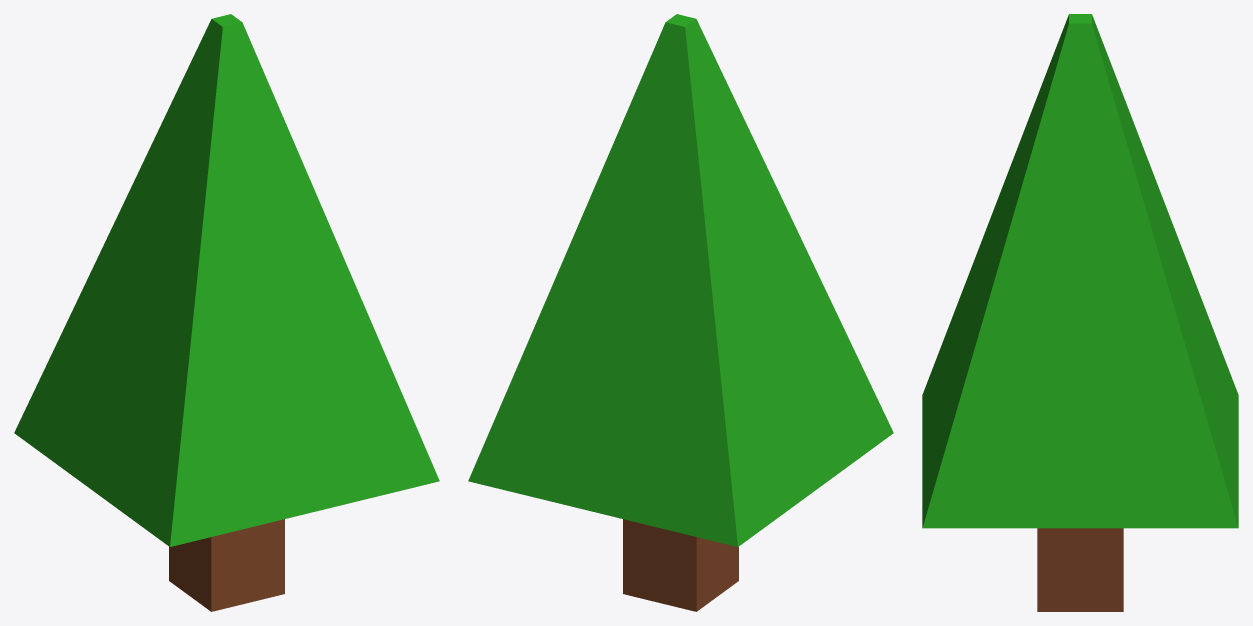
File: Tree1.fbx
The picture shows the model from 3 angles, left to right: view 1: azimuth 30°, elevation 25°; view 2: azimuth 150°, elevation 25°; view 3: azimuth 270°, elevation 25°; orthographic projection.
Parts seen in each view (by area): view 1: Tree01; view 2: Tree01; view 3: Tree01.
Part boxes in pixels (box(x1,y1,x2,y2)): Tree01: box(14, 14, 439, 611); Tree01: box(468, 14, 893, 611); Tree01: box(922, 14, 1238, 611).
Bounding box in the file's own units: 733 × 1471 × 733.
